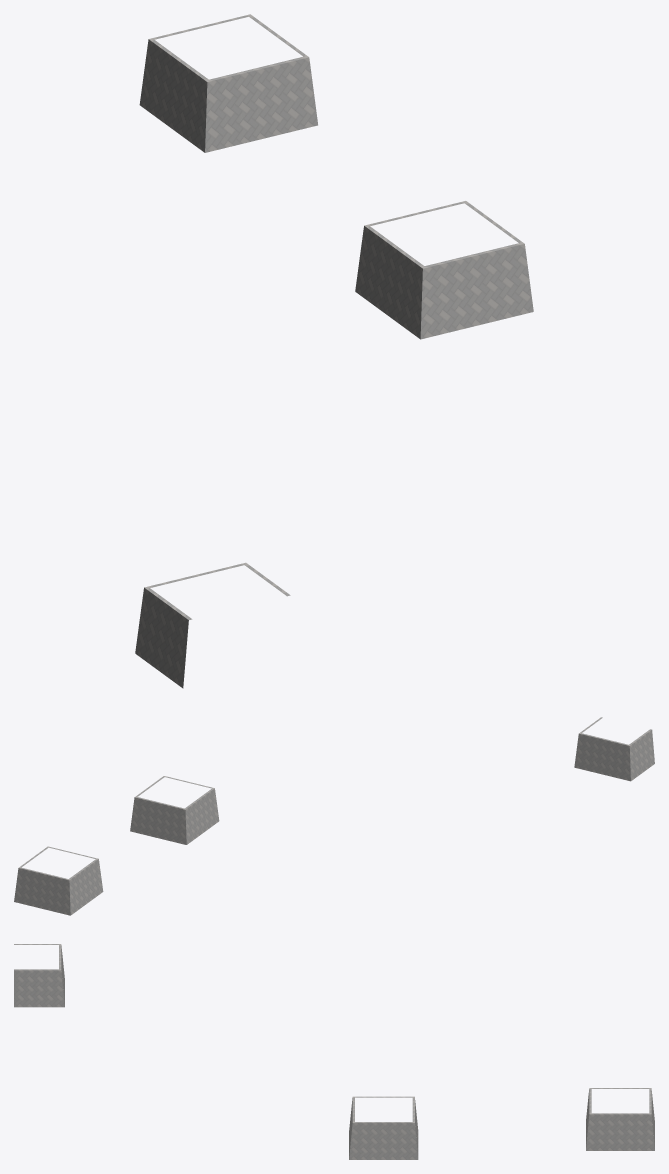
Rendered from kd_stage_13612f_0_1_bounded.glb.
3 views of the same model, one above another, from view 1: azimuth 30°, elevation 25°; view 2: azimuth 150°, elevation 25°; view 3: azimuth 270°, elevation 25° (orthographic). The views are drawn at different scales.
Parts seen in each view (by area): view 1: kd_stage_13612f_0_1_bounded; view 2: kd_stage_13612f_0_1_bounded; view 3: kd_stage_13612f_0_1_bounded.
Part boxes in pixels (x1,y1,x2,y2): kd_stage_13612f_0_1_bounded: (135, 14, 533, 688); kd_stage_13612f_0_1_bounded: (14, 717, 654, 915); kd_stage_13612f_0_1_bounded: (14, 944, 654, 1159).
Size of the model in its own units: 35.8 by 4.44 by 55.62.
Materials: 1 (1 with a texture image).
